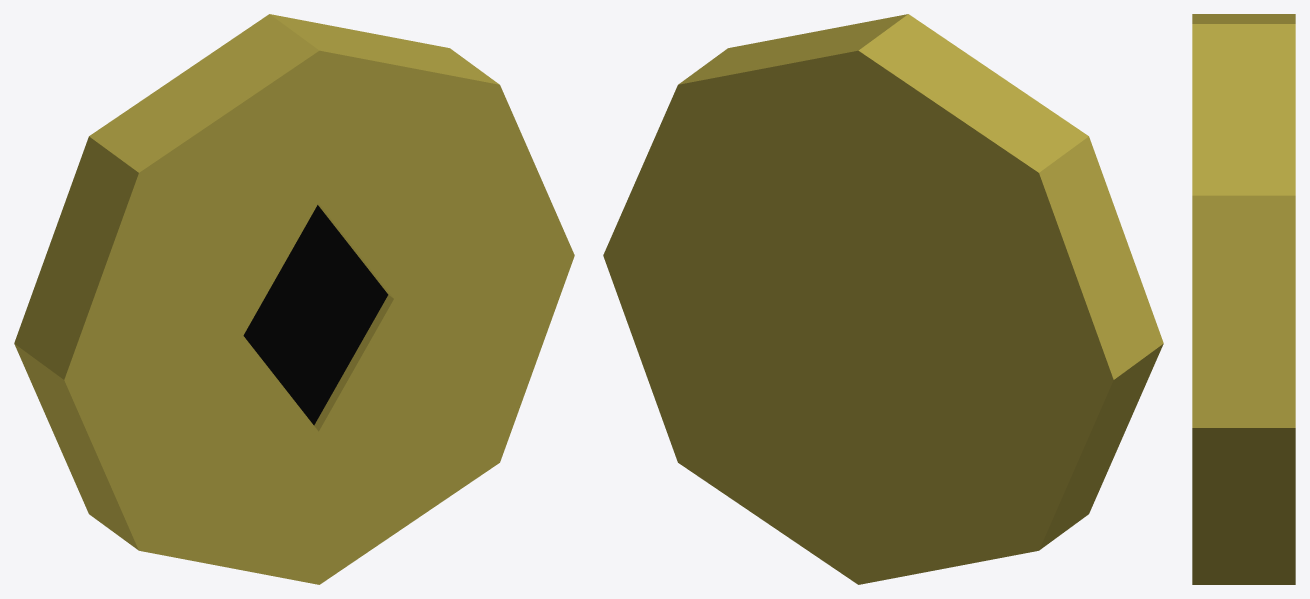
File: Key_Hole.fbx
The picture shows the model from 3 angles, left to right: view 1: azimuth 30°, elevation 25°; view 2: azimuth 150°, elevation 25°; view 3: azimuth 270°, elevation 25°; orthographic projection. The views are drawn at different scales.
Parts seen in each view (by area): view 1: Key_Hole; view 2: Key_Hole; view 3: Key_Hole.
Boxes of the visible parts, x1,y1,x2,y2 form: Key_Hole: (14,14,574,584); Key_Hole: (603,14,1163,584); Key_Hole: (1192,14,1295,584).
Size of the model in its own units: 4.91 by 4.91 by 0.8342.
